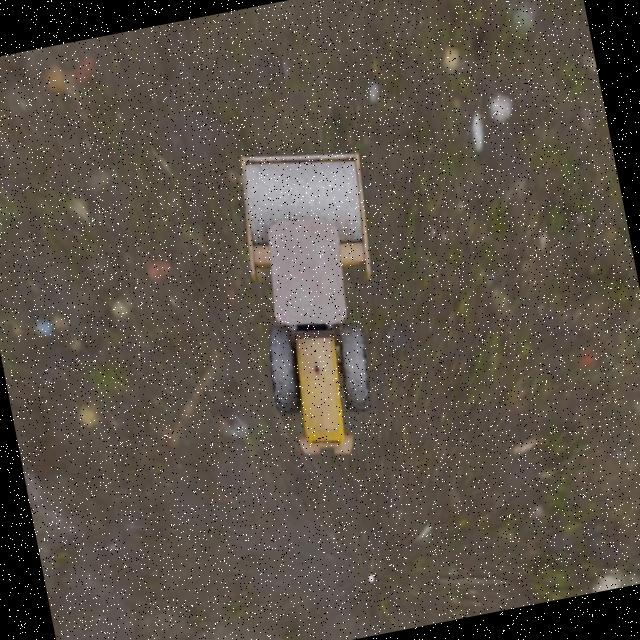Roller: (226, 133, 414, 465)
